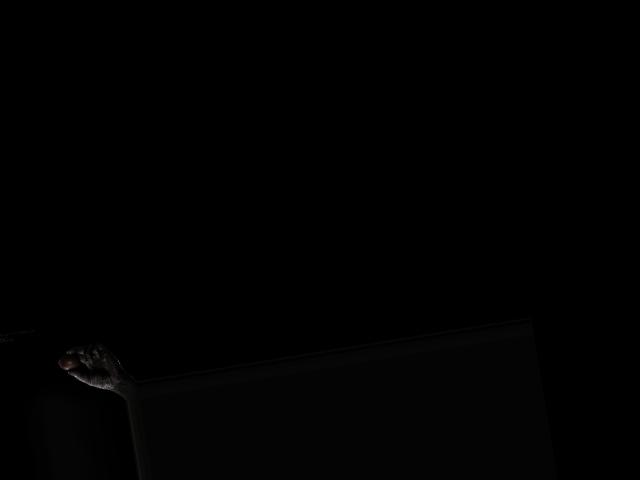egg: (58, 352, 82, 371)
